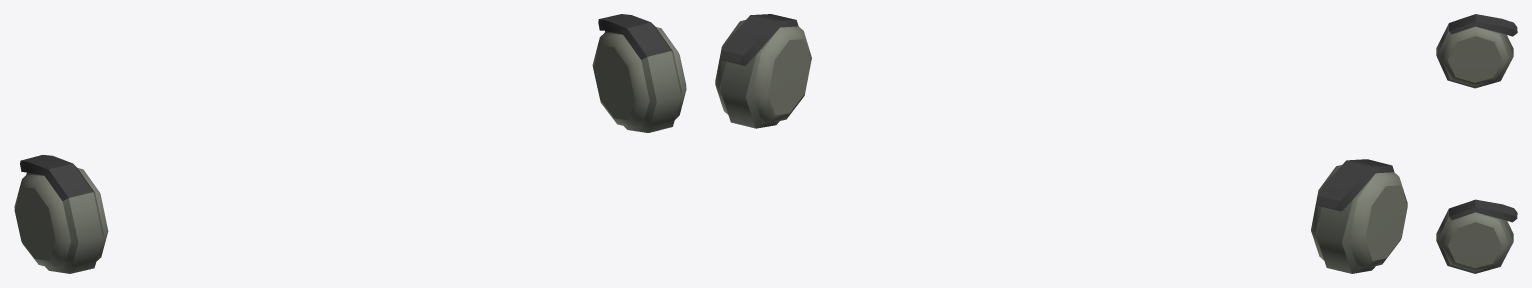
The model's file is Bracelet_5.fbx.
3 views of the same model, side by side, from view 1: azimuth 30°, elevation 25°; view 2: azimuth 150°, elevation 25°; view 3: azimuth 270°, elevation 25° (orthographic). The views are drawn at different scales.
Visible parts, largest first — view 1: Bracelet_5; view 2: Bracelet_5; view 3: Bracelet_5.
Part boxes in pixels (box(x1,y1,x2,y2)): Bracelet_5: box(14, 14, 686, 273); Bracelet_5: box(715, 14, 1407, 273); Bracelet_5: box(1436, 14, 1517, 273).
Bounding box in the file's own units: 96.29 × 14.79 × 16.32.
